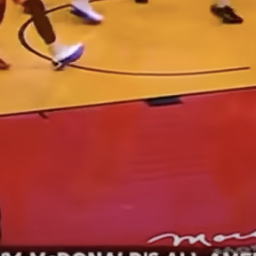block: (143, 95, 183, 107)
